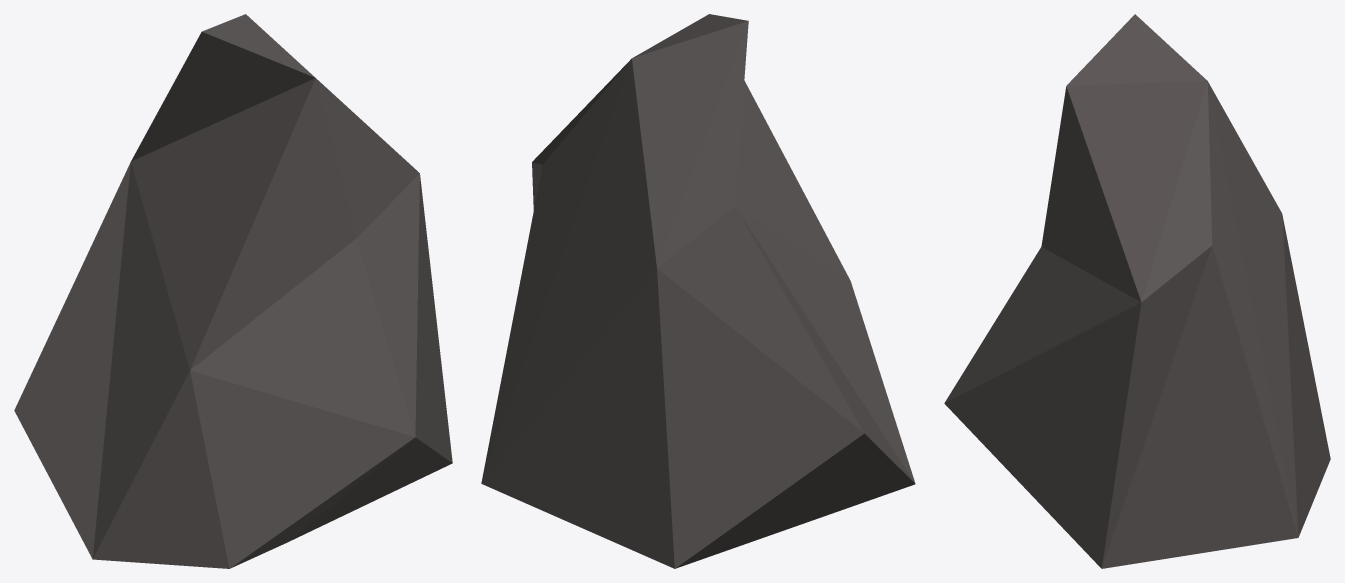
Rendered from AKMENS_002.FBX.
3 views of the same model, side by side, from view 1: azimuth 30°, elevation 25°; view 2: azimuth 150°, elevation 25°; view 3: azimuth 270°, elevation 25° (orthographic). The views are drawn at different scales.
Parts seen in each view (by area): view 1: AKMENS_002; view 2: AKMENS_002; view 3: AKMENS_002.
Part boxes in pixels (bbox=[...]): AKMENS_002: bbox=[14, 14, 452, 568]; AKMENS_002: bbox=[481, 14, 915, 568]; AKMENS_002: bbox=[944, 14, 1330, 568].
Bounding box in the file's own units: 2783 × 3366 × 2557.
1 material, 1 textured.
